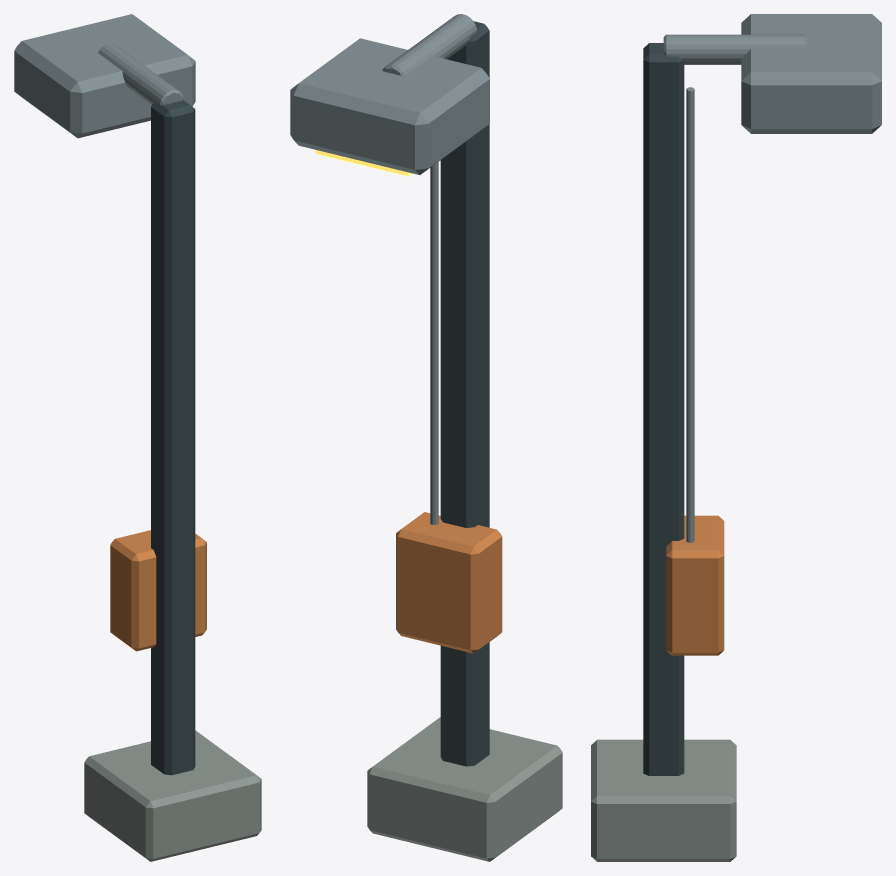
The model's file is industrial_lamp.glb.
3 views of the same model, side by side, from view 1: azimuth 30°, elevation 25°; view 2: azimuth 150°, elevation 25°; view 3: azimuth 270°, elevation 25° (orthographic). The views are drawn at different scales.
Visible parts, largest first — view 1: industrial_lamp_Surface; view 2: industrial_lamp_Surface; view 3: industrial_lamp_Surface.
Boxes of the visible parts, <box> form: industrial_lamp_Surface: <box>14,14,261,861</box>; industrial_lamp_Surface: <box>290,14,562,861</box>; industrial_lamp_Surface: <box>591,14,881,861</box>.
Bounding box in the file's own units: 0.65 × 3.63 × 1.2.
1 material, 1 textured.
